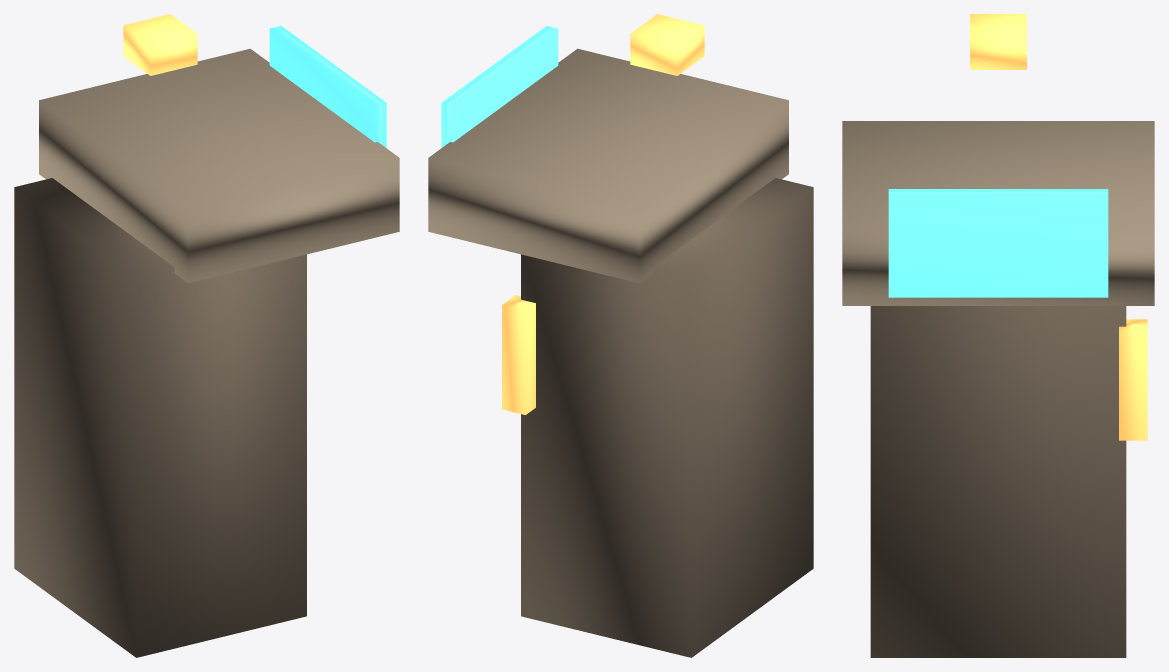
Rendered from refinery-terminal-lod1.glb.
3 renders of one model, left to right at view 1: azimuth 30°, elevation 25°; view 2: azimuth 150°, elevation 25°; view 3: azimuth 270°, elevation 25°, orthographic. The views are drawn at different scales.
Parts seen in each view (by area): view 1: refinery-terminal-pedestal, refinery-terminal-console, refinery-terminal-screen, objective-beacon-mount; view 2: refinery-terminal-pedestal, refinery-terminal-console, refinery-terminal-screen, refinery-terminal-side-light, objective-beacon-mount; view 3: refinery-terminal-pedestal, refinery-terminal-console, refinery-terminal-screen, refinery-terminal-side-light, objective-beacon-mount.
Part boxes in pixels (x1,y1,x2,y2): refinery-terminal-pedestal: [14, 178, 306, 657]; refinery-terminal-console: [39, 48, 399, 283]; refinery-terminal-screen: [269, 26, 386, 147]; objective-beacon-mount: [123, 14, 197, 75]; refinery-terminal-pedestal: [521, 178, 813, 657]; refinery-terminal-console: [428, 48, 788, 283]; refinery-terminal-screen: [441, 26, 558, 147]; refinery-terminal-side-light: [502, 295, 535, 414]; objective-beacon-mount: [630, 14, 704, 75]; refinery-terminal-pedestal: [870, 306, 1126, 657]; refinery-terminal-console: [842, 121, 1154, 305]; refinery-terminal-screen: [888, 189, 1108, 297]; refinery-terminal-side-light: [1119, 319, 1147, 440]; objective-beacon-mount: [970, 14, 1026, 69].
Size of the model in its own units: 0.88 by 1.83 by 0.88.
